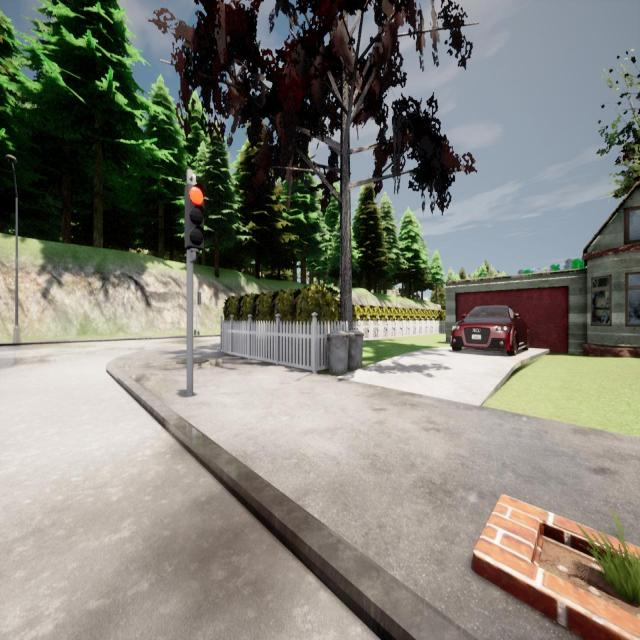Vehicle: (451, 306, 530, 354)
traffic_light: (184, 184, 205, 251), (198, 292, 202, 305)
